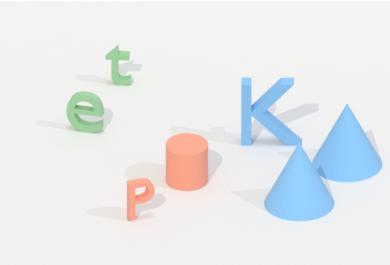0-KhoiTru: (164, 131, 211, 194)
0-TamGiac: (310, 100, 386, 188), (260, 143, 336, 224)
K: (238, 70, 303, 150)
P: (123, 175, 156, 225)
e: (64, 87, 108, 139)
t: (102, 42, 135, 89)
